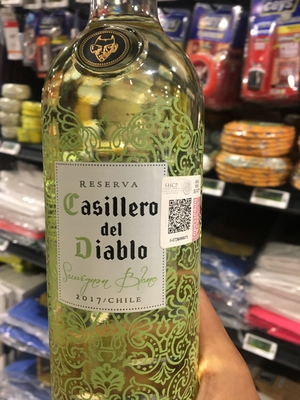casillero del diablo sauvignon blanc: (40, 10, 198, 400)
